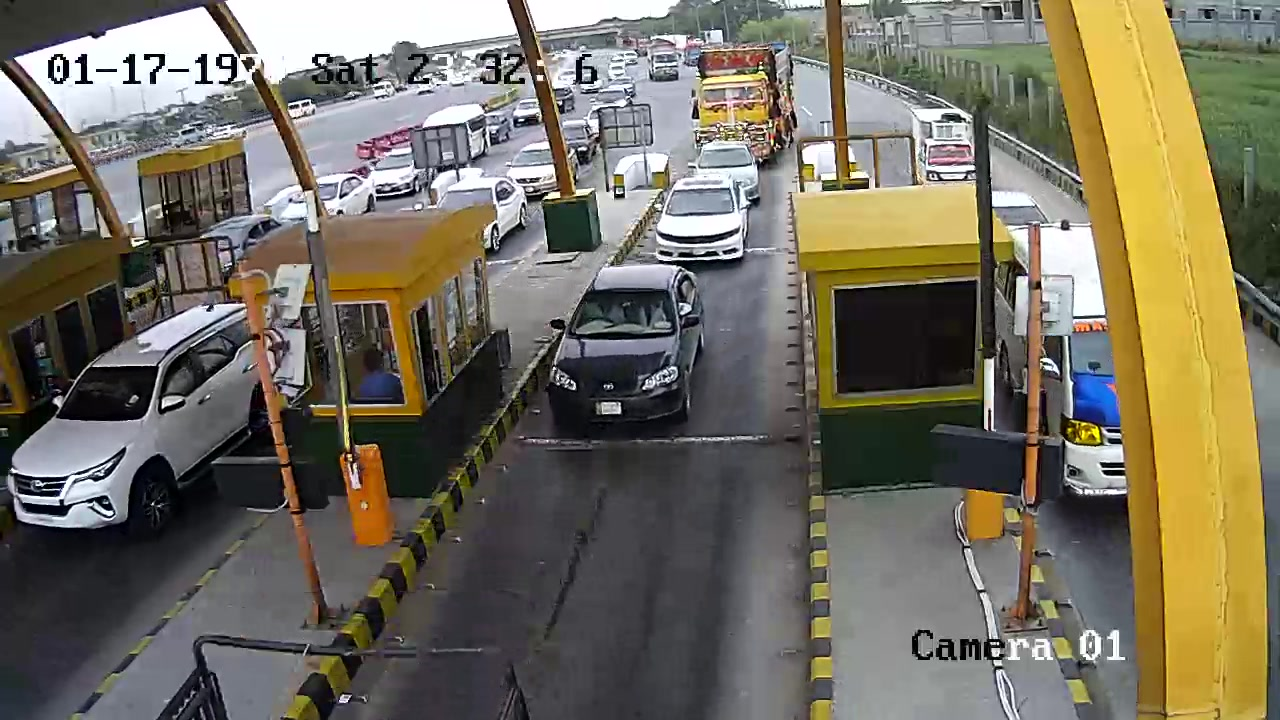F1: (532, 258, 718, 435), (650, 176, 754, 264)
